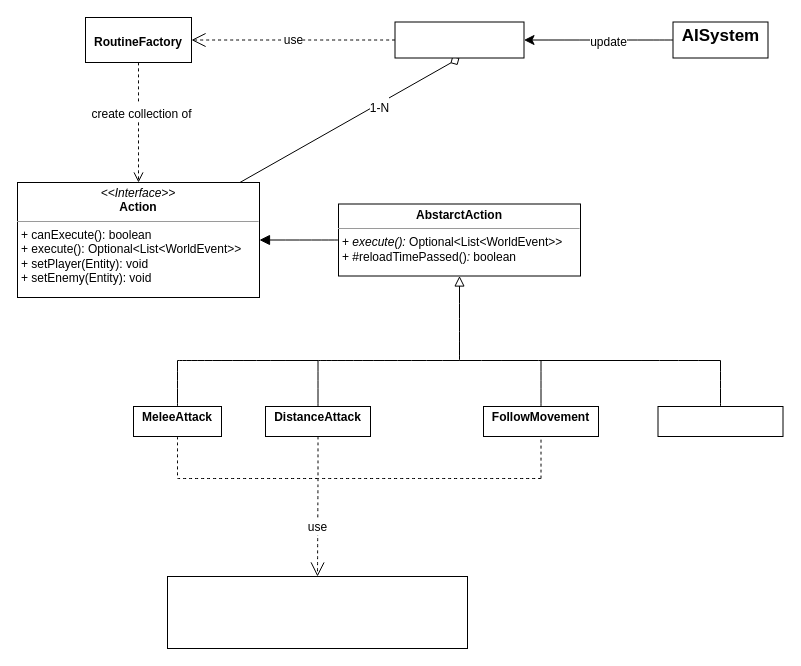
Some shapes in this 801 by 666 pixel diagram are drawn without their labels. Here are the shapes that lost their labels. From the top down, the box of each, then its label:
(394, 21, 524, 58): AIComponent
(657, 406, 783, 436): RandomMovement
(166, 576, 468, 648): AttackUtil + getPlayerDirection(Vector2D, Vector2D): Vector2D
